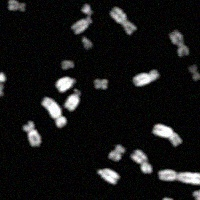chromosome: (42, 97, 66, 127), (110, 6, 135, 34), (152, 124, 182, 147), (159, 169, 200, 184), (22, 121, 41, 147), (170, 31, 188, 57), (132, 149, 152, 172), (133, 70, 158, 86), (72, 17, 92, 34), (97, 169, 118, 185), (64, 91, 80, 111), (107, 144, 124, 161), (56, 76, 75, 91), (8, 0, 25, 11), (190, 65, 200, 80), (81, 37, 93, 48), (62, 59, 74, 70), (94, 79, 107, 89), (81, 5, 92, 16), (193, 188, 200, 200), (0, 71, 6, 83), (0, 84, 4, 97), (159, 197, 173, 200)
